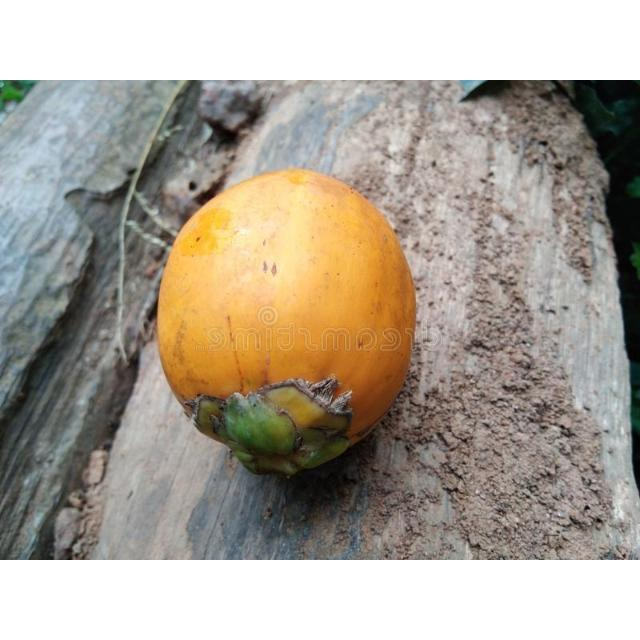good: (157, 169, 418, 478)
